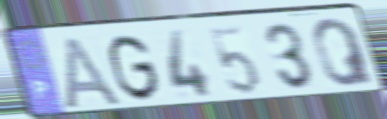3: (264, 20, 312, 92)
4: (166, 27, 216, 101)
5: (206, 24, 263, 96)
A: (62, 34, 125, 112)
G: (107, 32, 163, 104)
Q: (309, 16, 378, 89)
